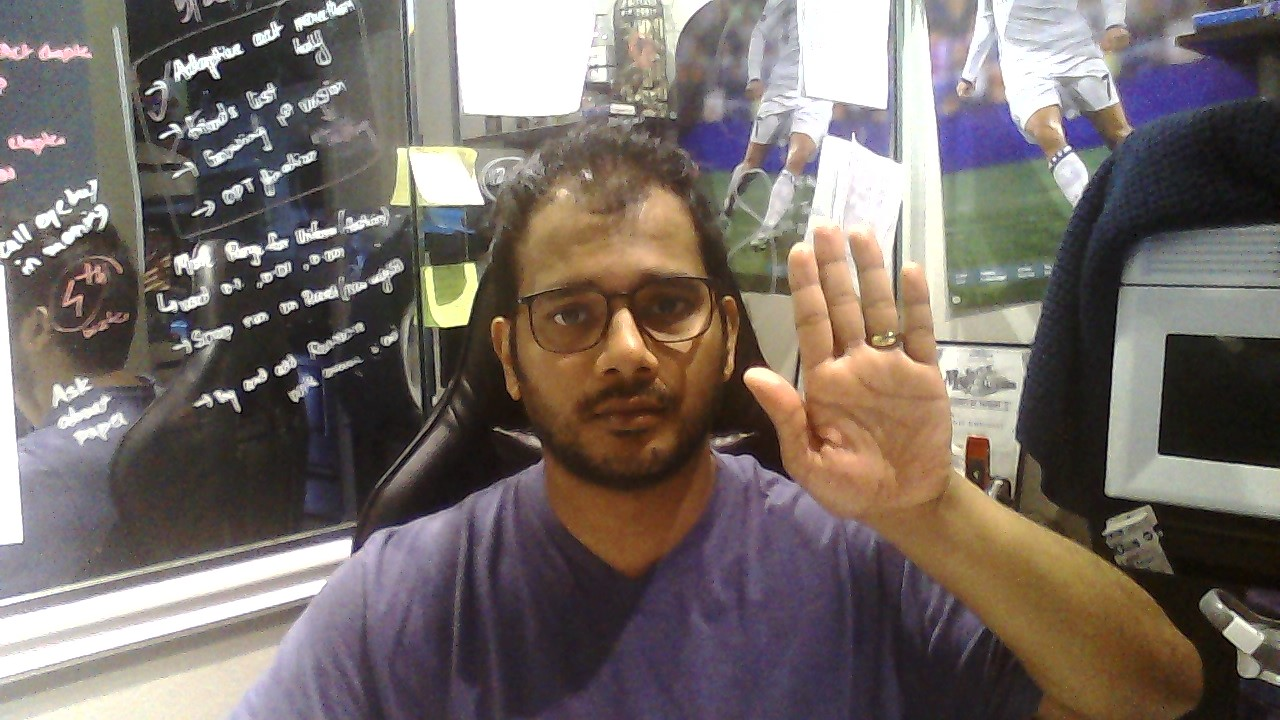Hello: (741, 220, 953, 515)
